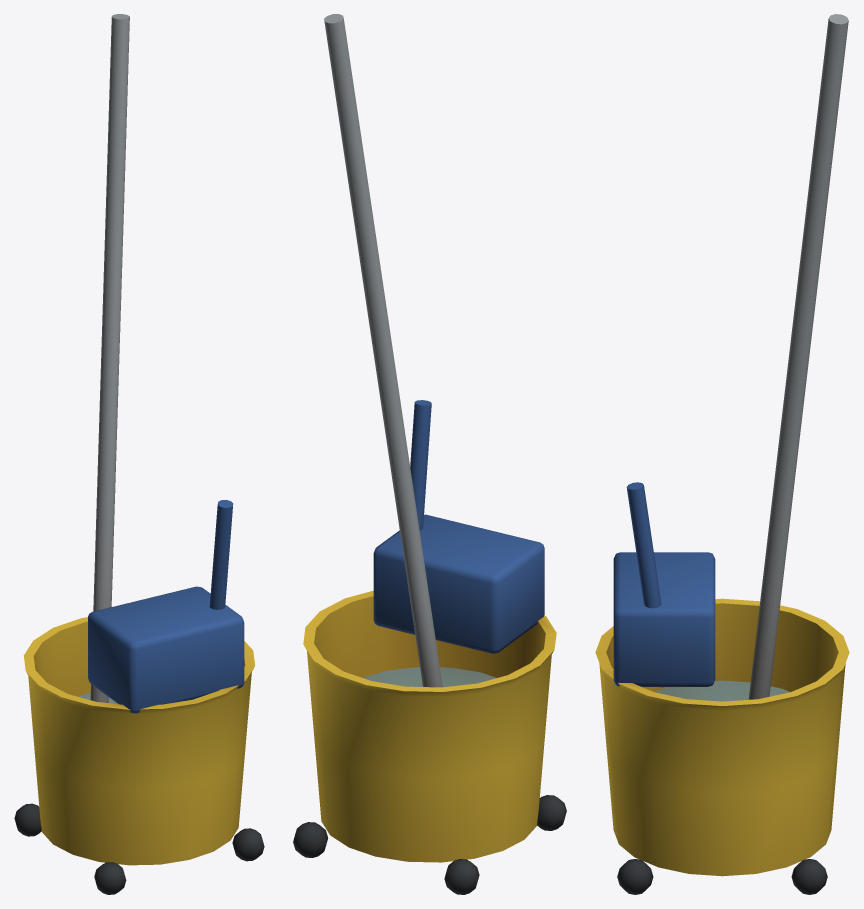
File: fp-mop.gltf
3 views of the same model, side by side, from view 1: azimuth 30°, elevation 25°; view 2: azimuth 150°, elevation 25°; view 3: azimuth 270°, elevation 25° (orthographic). The views are drawn at different scales.
Visible parts, largest first — view 1: model; view 2: model; view 3: model.
Boxes of the visible parts, x1,y1,x2,y2 form: model: (14, 14, 264, 894); model: (293, 14, 566, 894); model: (595, 14, 849, 894).
Bounding box in the file's own units: 0.35 × 1.3 × 0.35.
